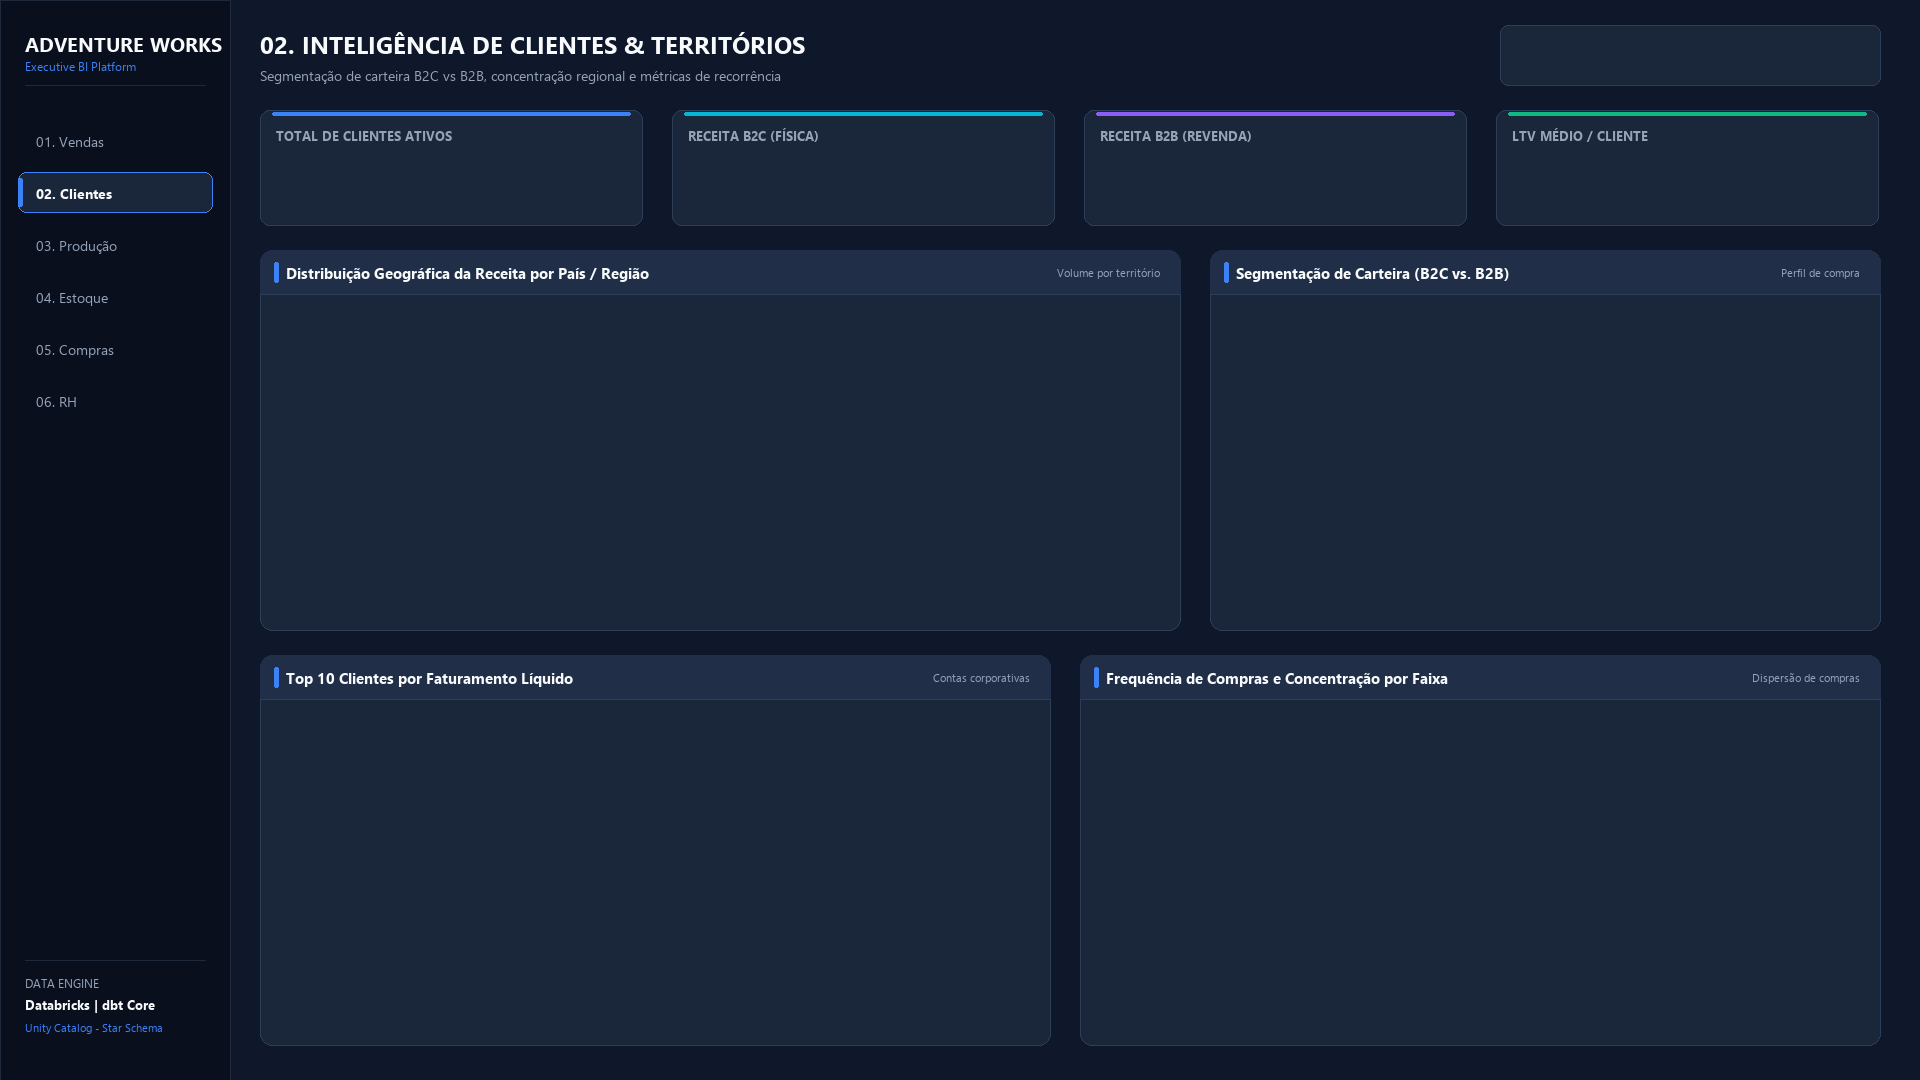

What the dashboard file says about the page in this screenshot:
{"tool":"powerbi","page":{"name":"Clientes","canvas":[1920,1080],"ordinal":1},"visuals":[{"type":"slicer","fields":{"Values":["dates.calendar_date"]},"box":[1510,35,360,45],"z":0},{"type":"cardVisual","fields":{"Data":["d_Medidas.Clientes Ativos"]},"box":[260,140,380,75],"z":1000},{"type":"cardVisual","fields":{"Data":["d_Medidas.Receita B2C"]},"box":[670,140,380,75],"z":2000},{"type":"cardVisual","fields":{"Data":["d_Medidas.Receita B2B"]},"box":[1080,140,380,75],"z":3000},{"type":"cardVisual","fields":{"Data":["d_Medidas.Receita Média por Cliente"]},"box":[1490,140,380,75],"z":4000},{"type":"filledMap","fields":{"Category":["customers.country_region_name","customers.state_province_name"]},"box":[270,298,900,320],"z":5000},{"type":"donutChart","fields":{"Category":["customers.customer_type"],"Y":["d_Medidas.Receita Líquida"]},"box":[1220,298,611,320],"z":6000},{"type":"clusteredColumnChart","fields":{"Category":["customers.customer_name"],"Y":["d_Medidas.Receita Líquida"]},"box":[270,702,770,330],"z":7000},{"type":"clusteredColumnChart","fields":{"Category":["customers.territory_name"],"Y":["d_Medidas.Total Pedidos"]},"box":[1090,702,780,330],"z":8000}]}

Visuals, with their boxes on the page's 1920x1080 design canvas (x1, y1, x2, y2). These are canvas units, not pixel positions in the 1920x1080 screenshot, which may show the page scaled, cropped or inside an application window:
slicer - dates.calendar_date: bbox=(1510, 35, 1870, 80)
cardVisual - d_Medidas.Clientes Ativos: bbox=(260, 140, 640, 215)
cardVisual - d_Medidas.Receita B2C: bbox=(670, 140, 1050, 215)
cardVisual - d_Medidas.Receita B2B: bbox=(1080, 140, 1460, 215)
cardVisual - d_Medidas.Receita Média por Cliente: bbox=(1490, 140, 1870, 215)
filledMap - customers.country_region_name x customers.state_province_name: bbox=(270, 298, 1170, 618)
donutChart - customers.customer_type x d_Medidas.Receita Líquida: bbox=(1220, 298, 1831, 618)
clusteredColumnChart - customers.customer_name x d_Medidas.Receita Líquida: bbox=(270, 702, 1040, 1032)
clusteredColumnChart - customers.territory_name x d_Medidas.Total Pedidos: bbox=(1090, 702, 1870, 1032)
